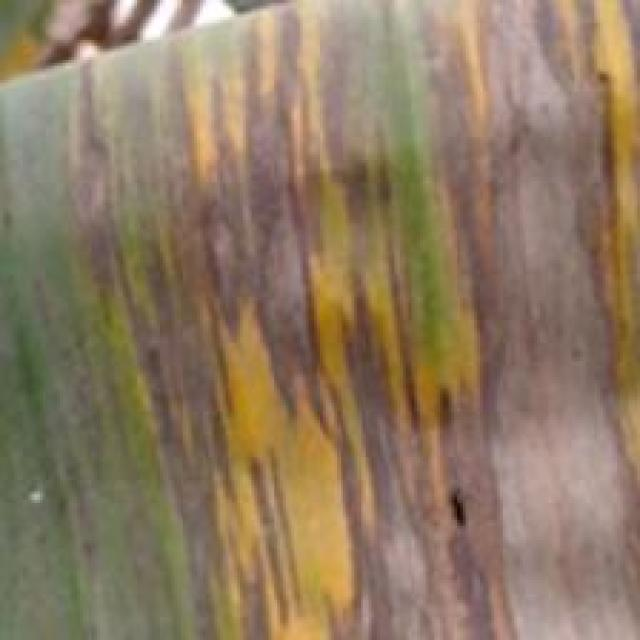Early_leaf_spot: (51, 0, 640, 620)
